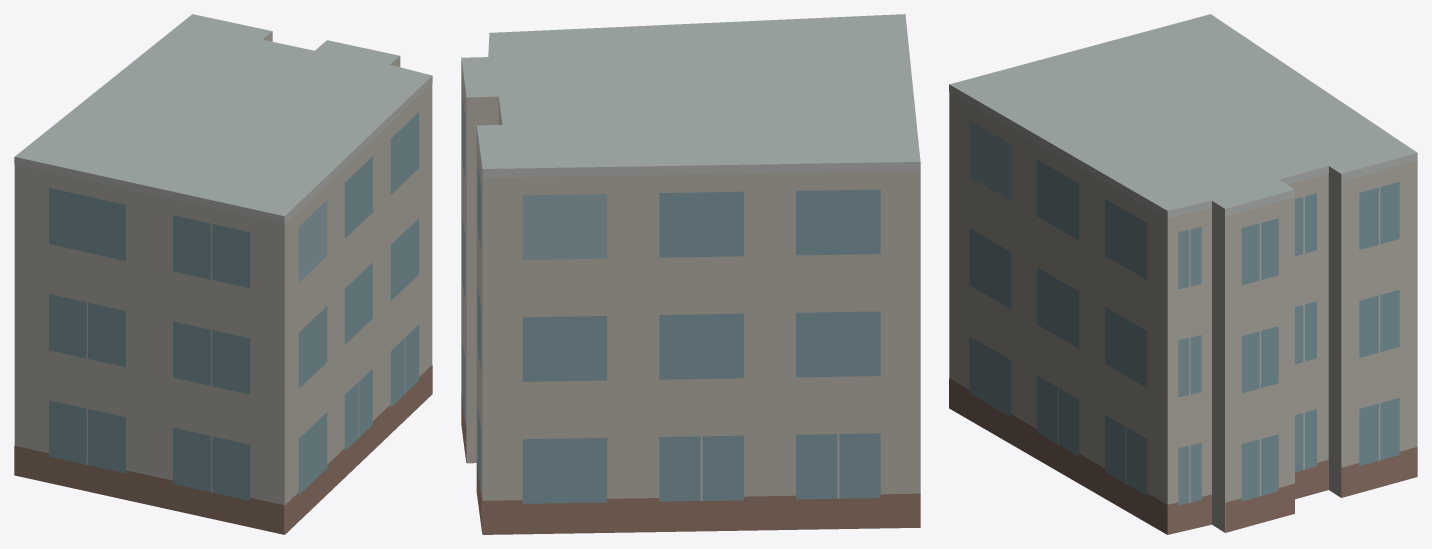
File: survey-upis-32492359.glb
The picture shows the model from 3 angles, left to right: view 1: azimuth 30°, elevation 25°; view 2: azimuth 150°, elevation 25°; view 3: azimuth 270°, elevation 25°; orthographic projection. The views are drawn at different scales.
Visible parts, largest first — view 1: survey-upis-32492359.tmp; view 2: survey-upis-32492359.tmp; view 3: survey-upis-32492359.tmp.
Part boxes in pixels (x1,y1,x2,y2): survey-upis-32492359.tmp: (14,14,432,534); survey-upis-32492359.tmp: (461,14,920,534); survey-upis-32492359.tmp: (949,14,1417,534).
Size of the model in its own units: 13.17 by 10.1 by 13.24.
